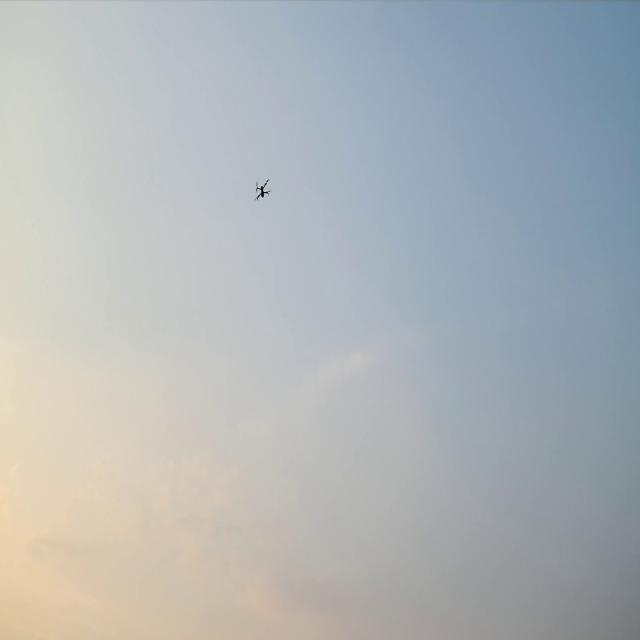UAV: (256, 180, 268, 200)
